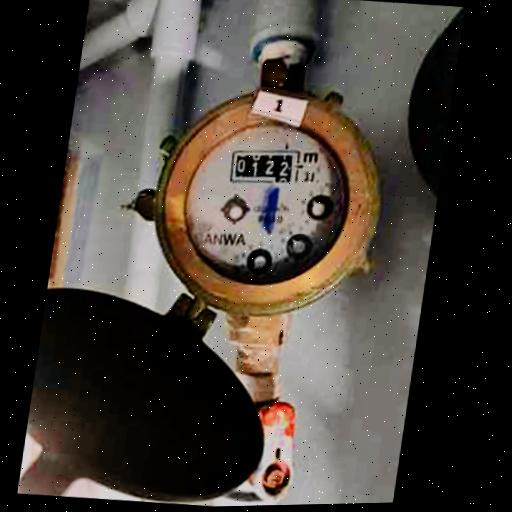0: (233, 155, 249, 177)
1: (245, 154, 263, 179)
2: (275, 154, 292, 183), (260, 155, 278, 178)
border_water_meter_number: (227, 145, 301, 188)
